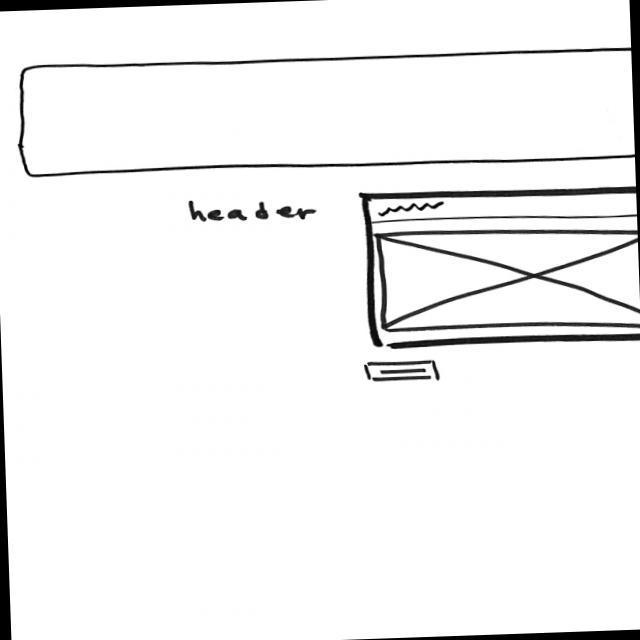container: (17, 43, 636, 184), (357, 180, 640, 353)
icon-button: (361, 356, 445, 386)
image: (375, 221, 640, 336)
label: (183, 196, 319, 227)
text: (376, 200, 449, 218)
